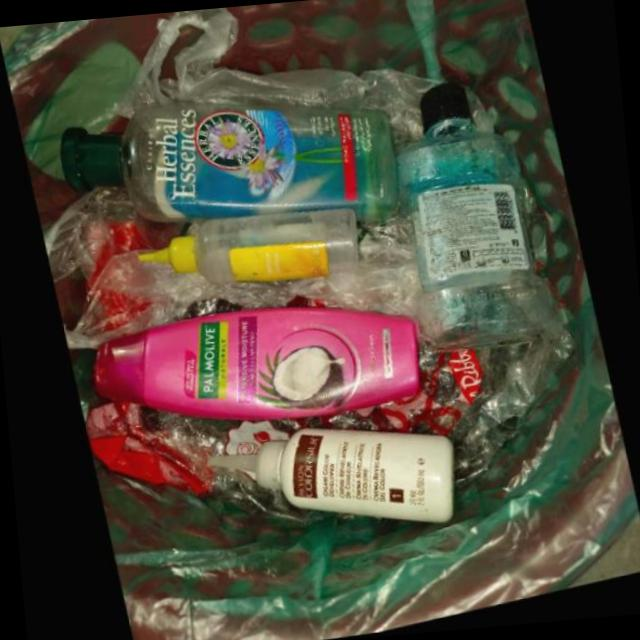chai_nhua: (401, 89, 555, 359), (64, 105, 402, 228), (94, 311, 424, 424), (208, 432, 455, 528), (141, 212, 363, 288)
